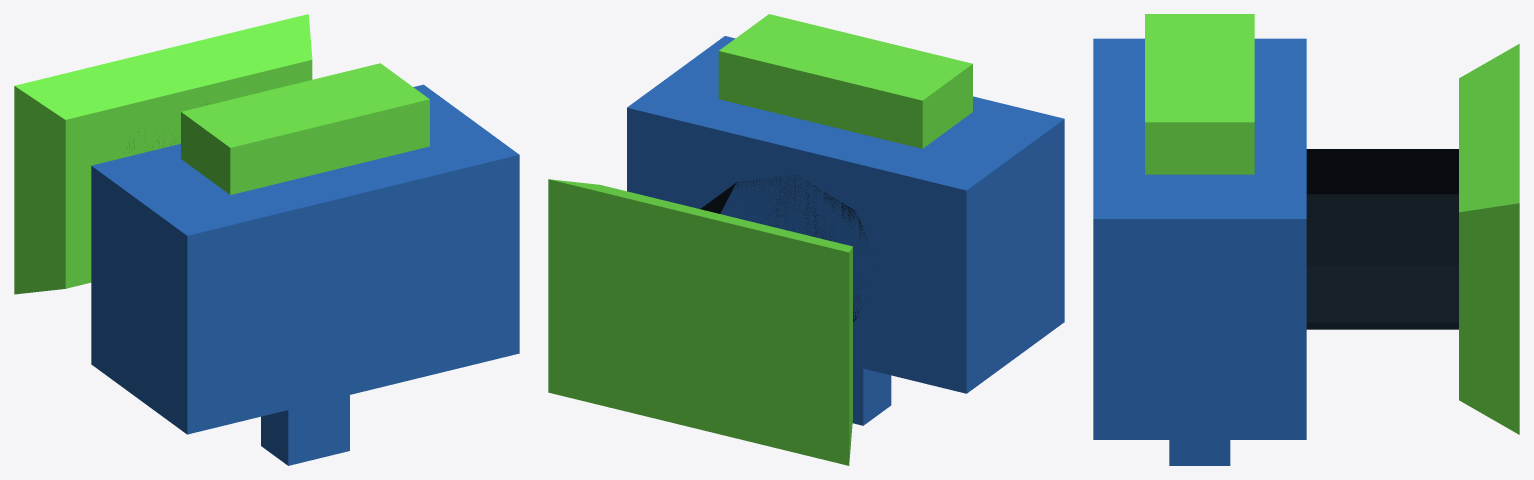
The model's file is camera_gizmo.obj.
The picture shows the model from 3 angles, left to right: view 1: azimuth 30°, elevation 25°; view 2: azimuth 150°, elevation 25°; view 3: azimuth 270°, elevation 25°; orthographic projection. The views are drawn at different scales.
Visible parts, largest first — view 1: camera_body, camera_hood, camera_handle, camera_tripod_mount; view 2: camera_body, camera_hood, camera_handle, camera_tripod_mount, camera_lens; view 3: camera_body, camera_lens, camera_hood, camera_handle, camera_tripod_mount.
Part boxes in pixels (x1,y1,x2,y2): camera_body: [91, 84, 519, 434]; camera_hood: [14, 14, 312, 294]; camera_handle: [181, 63, 429, 194]; camera_tripod_mount: [261, 395, 349, 465]; camera_body: [627, 36, 1064, 393]; camera_hood: [548, 179, 852, 465]; camera_handle: [718, 14, 972, 148]; camera_tripod_mount: [852, 366, 891, 425]; camera_lens: [700, 175, 869, 321]; camera_body: [1093, 38, 1306, 439]; camera_lens: [1306, 149, 1458, 329]; camera_hood: [1459, 44, 1519, 434]; camera_handle: [1145, 14, 1254, 174]; camera_tripod_mount: [1169, 440, 1230, 465].
Bounding box in the file's own units: 1.4 × 1.38 × 1.4.
